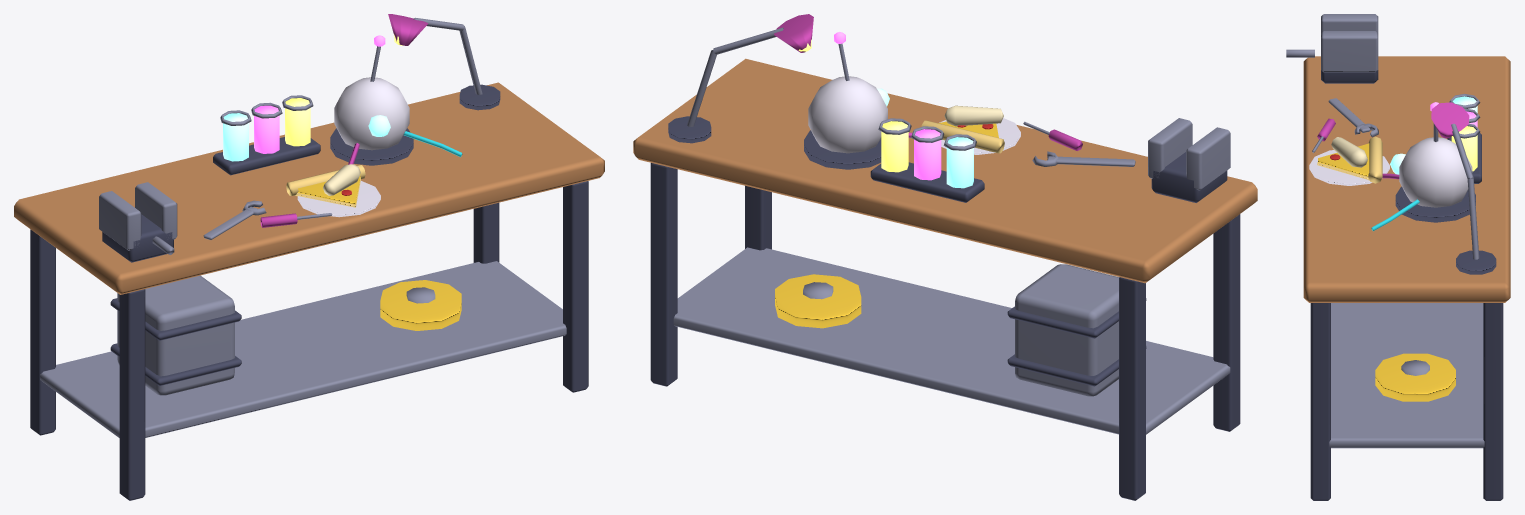
File: lab_bench.glb
The picture shows the model from 3 angles, left to right: view 1: azimuth 30°, elevation 25°; view 2: azimuth 150°, elevation 25°; view 3: azimuth 270°, elevation 25°; orthographic projection. The views are drawn at different scales.
Visible parts, largest first — view 1: Bench; view 2: Bench; view 3: Bench.
Part boxes in pixels (<box>): Bench: <box>14,14,604,500</box>; Bench: <box>633,14,1257,500</box>; Bench: <box>1286,14,1510,500</box>.
Size of the model in its own units: 1.9 by 1.31 by 0.78.
